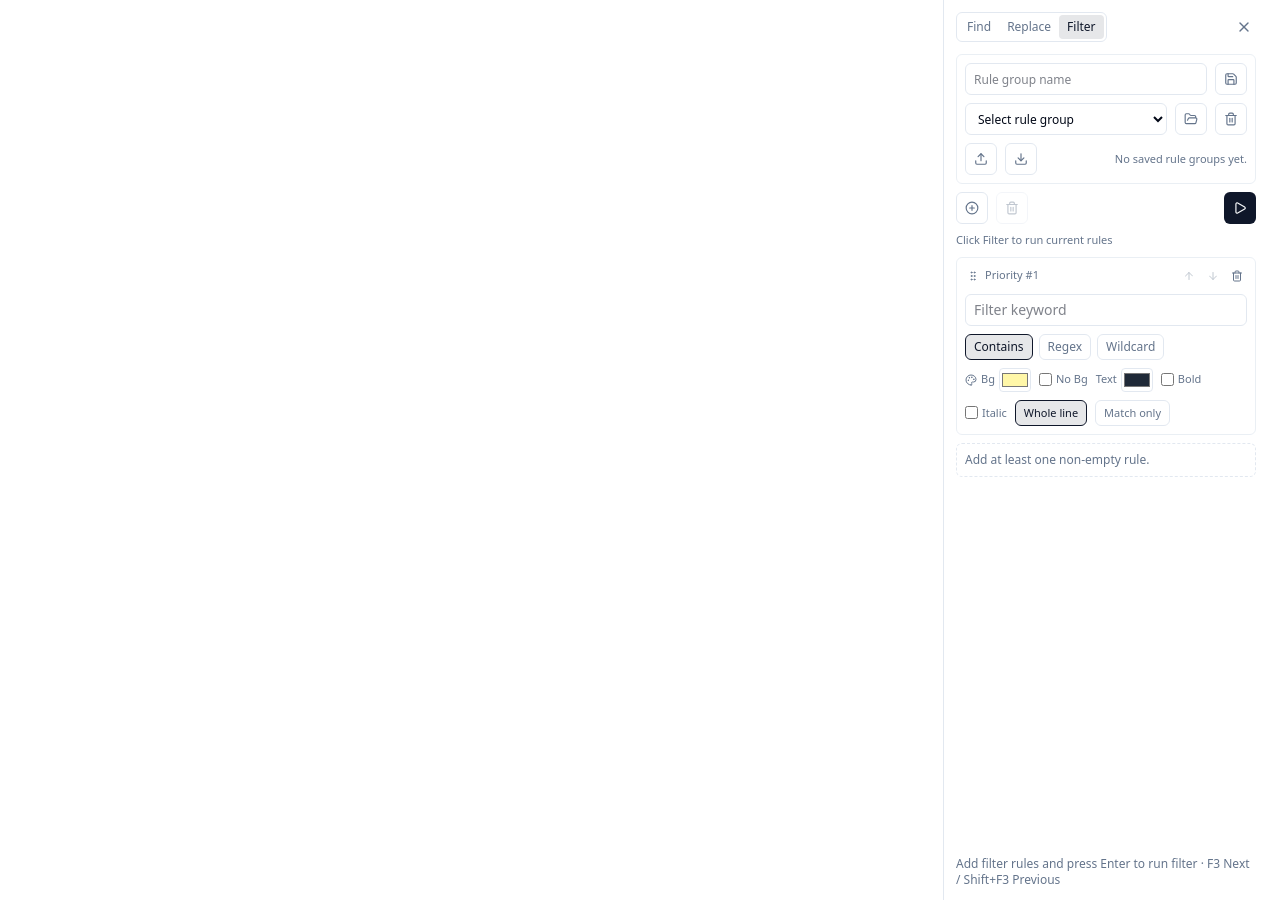
Scenario: SearchReplacePanel › shows filter navigation error when filter step command fails
This screenshot has width=1280, height=900.
Expected: the button named "Add Rule" is shown, left=956, top=192, right=988, bottom=224
Type "todo" into the field with placeholder "Filter keyword" at (1106, 310), box left=965, top=294, right=1247, bottom=326
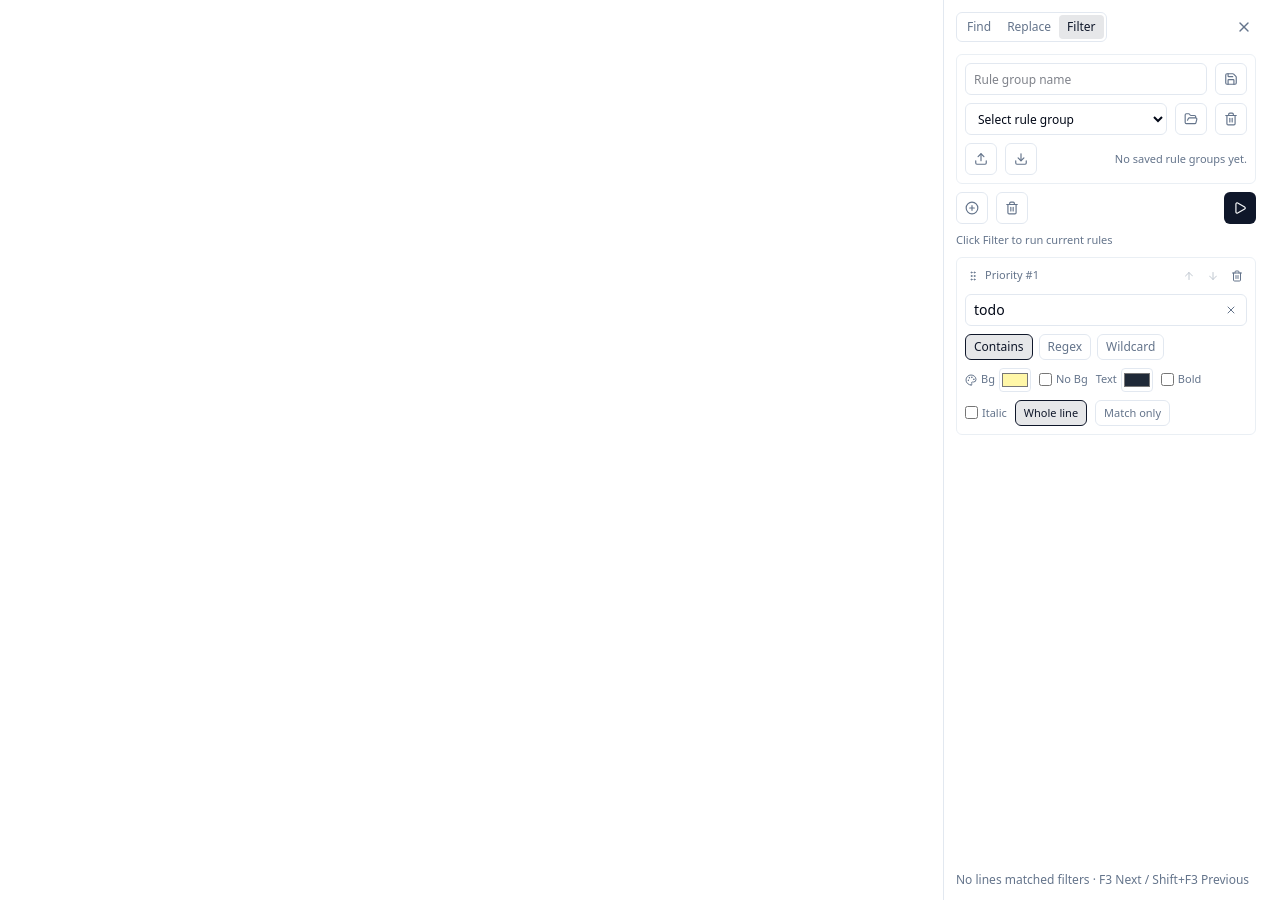
Click the button titled "Click Filter to run current rules" at (1240, 208), box left=1224, top=192, right=1256, bottom=224
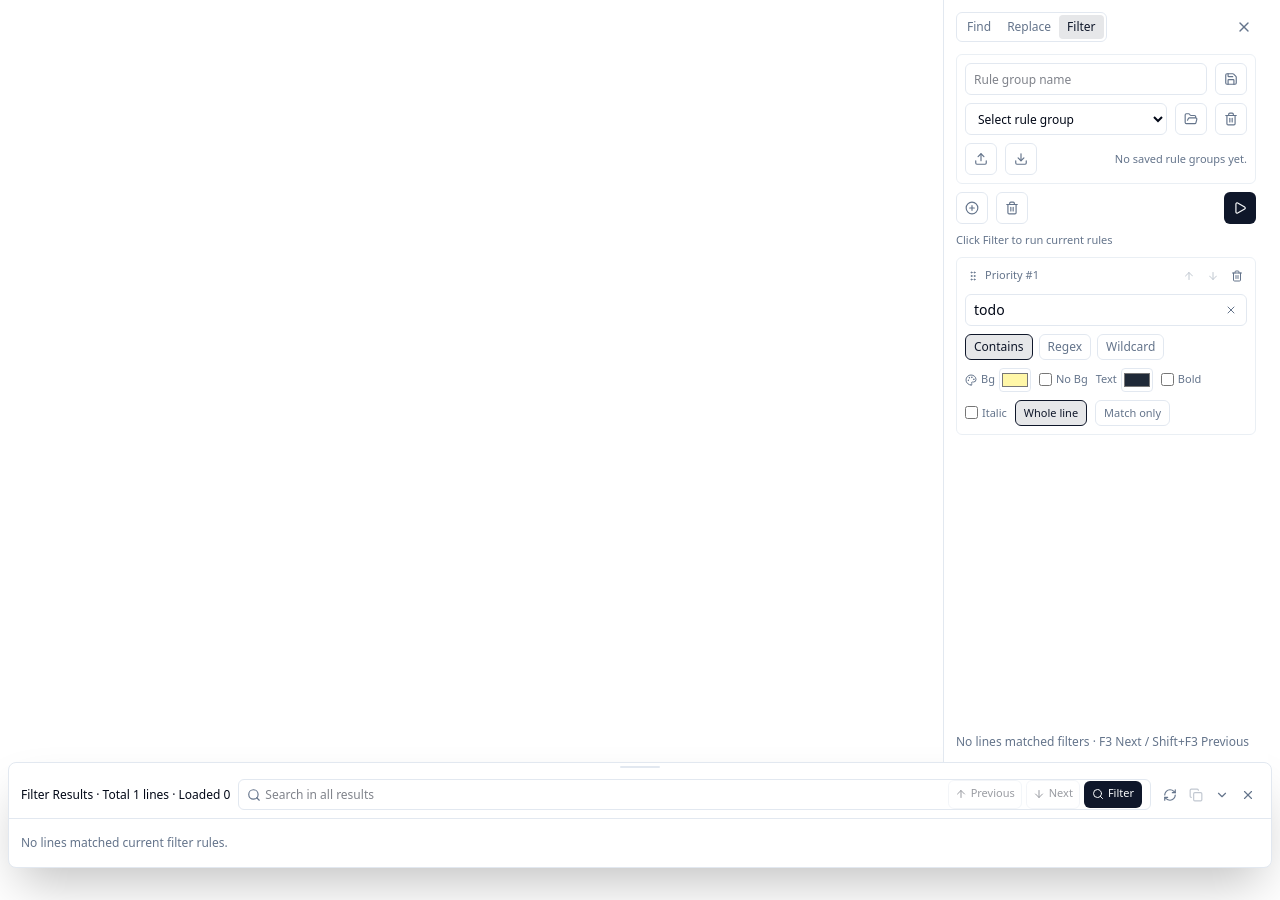
Press F3
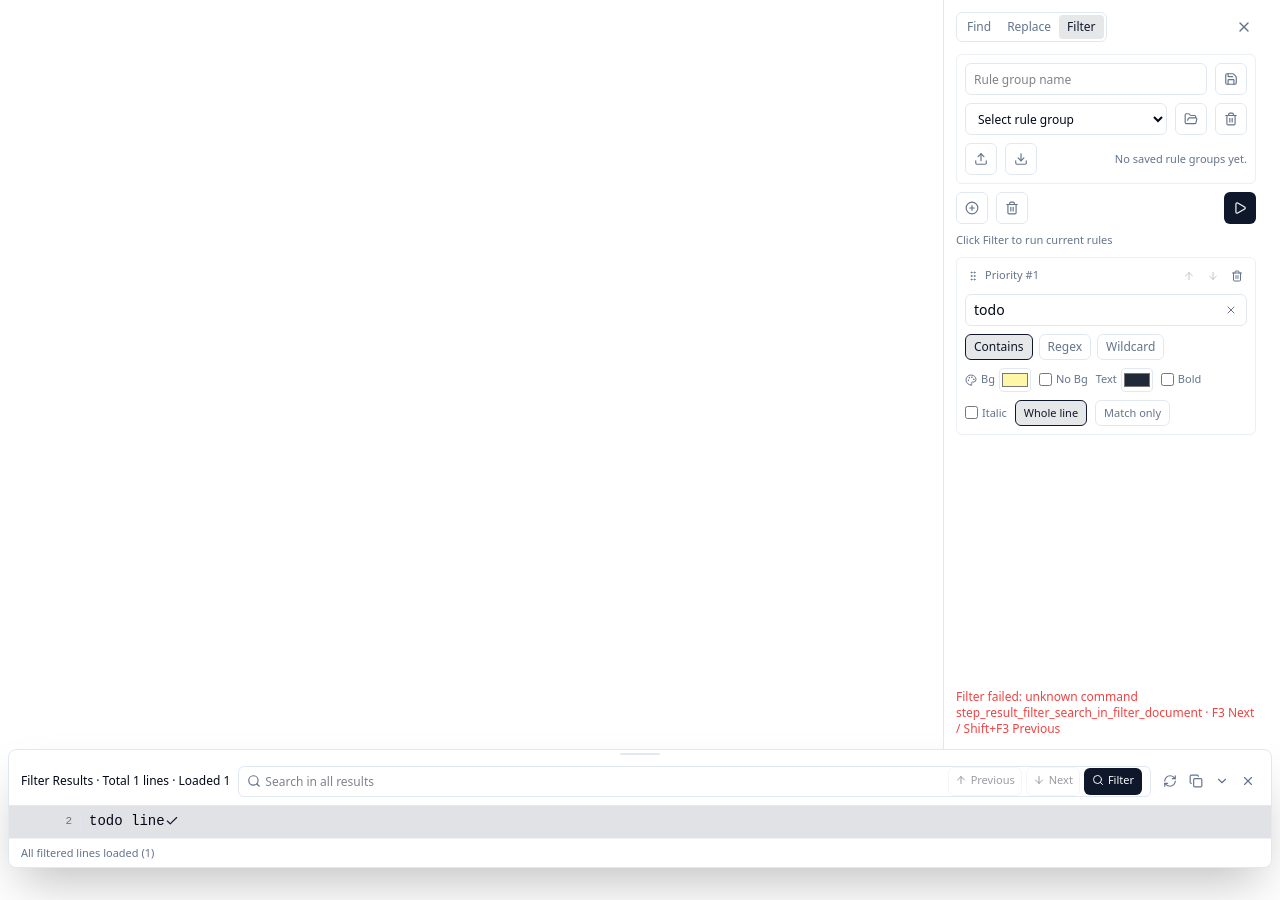
Expected: the text "Filter failed: unknown command step_result_filter_search_in_filter_document" is shown, left=956, top=688, right=1202, bottom=721
